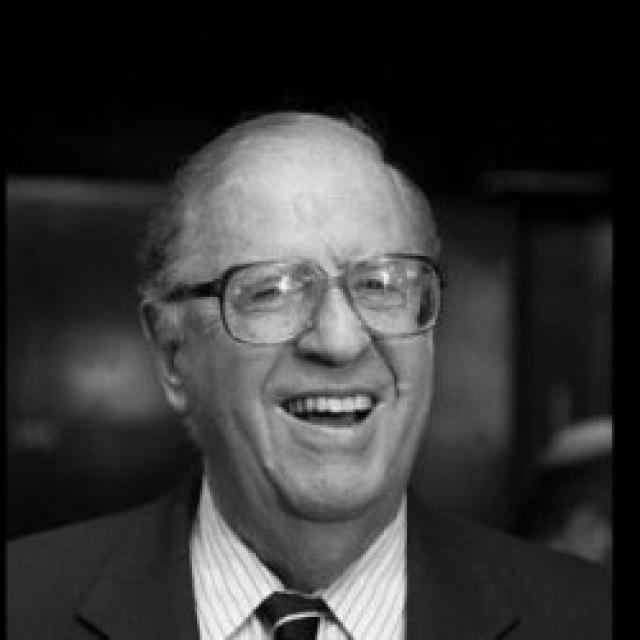real: (181, 134, 441, 524), (214, 249, 429, 328)
